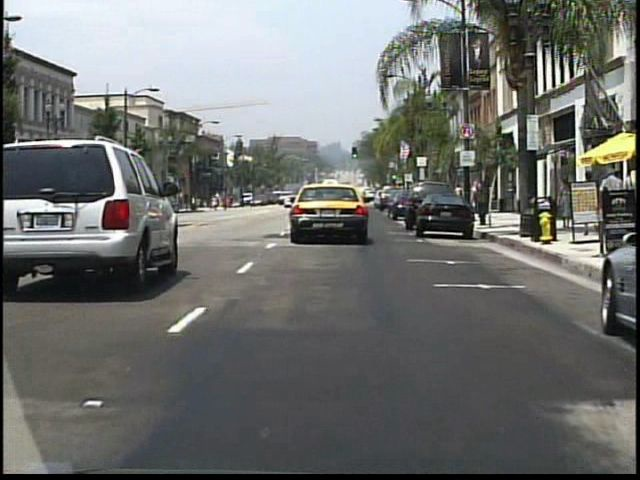person: (597, 165, 623, 221), (581, 170, 601, 234), (553, 180, 573, 232), (239, 194, 246, 209)
